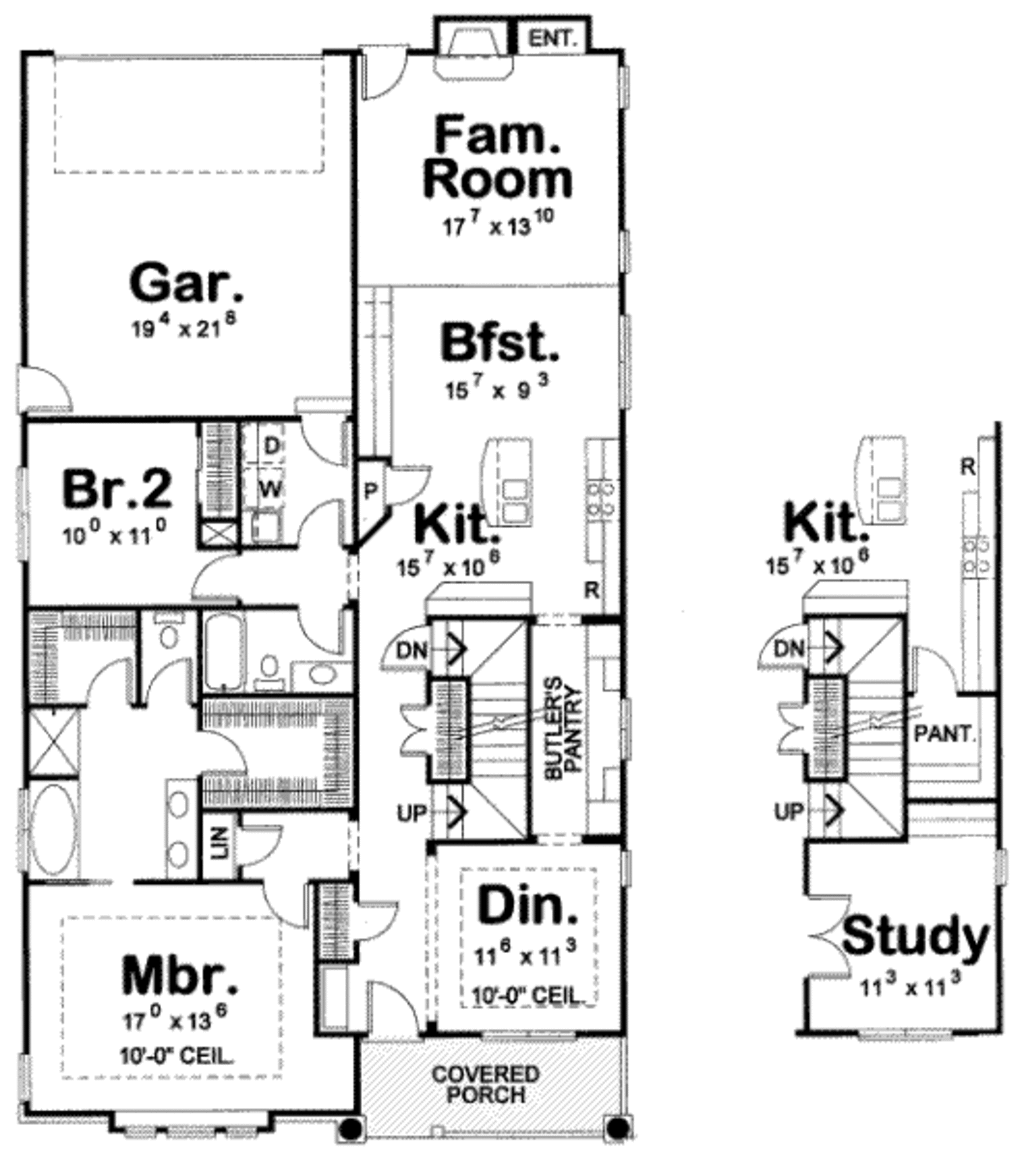door: (794, 884, 865, 984), (6, 360, 87, 422), (293, 399, 351, 472), (750, 604, 806, 674), (367, 982, 428, 1045), (372, 613, 433, 675), (139, 649, 197, 713), (352, 45, 412, 106), (395, 695, 443, 767), (293, 598, 346, 660), (775, 695, 822, 762), (195, 719, 249, 776), (351, 891, 407, 945), (81, 653, 132, 709), (236, 816, 284, 874), (197, 547, 243, 606), (264, 881, 315, 934), (288, 497, 343, 544), (913, 648, 961, 701), (382, 464, 432, 507)
kitchen_bar: (467, 426, 547, 534), (849, 428, 914, 537)
large_sink: (144, 609, 190, 650), (253, 650, 286, 694)
small_sink: (164, 784, 201, 881), (288, 655, 356, 692)
twin_sink: (492, 473, 543, 526), (871, 468, 917, 525)
window: (605, 64, 645, 120)
